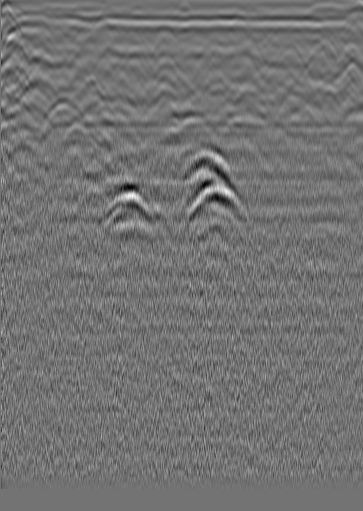가스: (100, 186, 153, 222)
상수: (311, 36, 331, 56)
오수: (25, 26, 45, 46)
우수: (159, 23, 179, 43)
